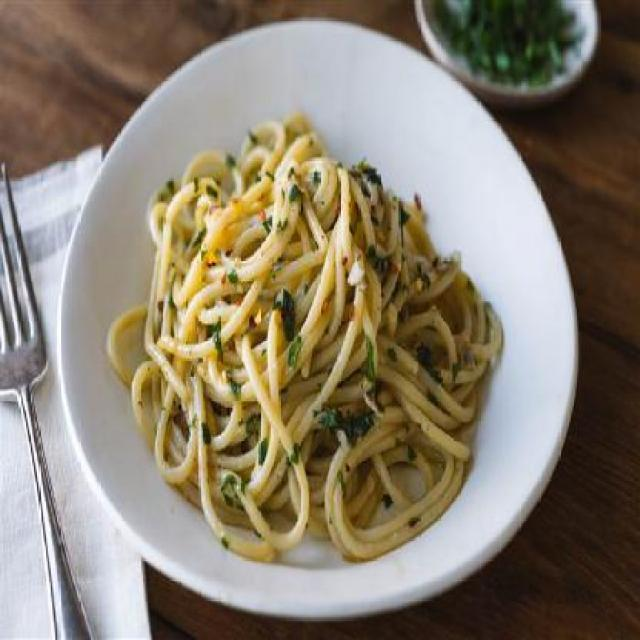Oil pasta: (93, 90, 530, 552)
